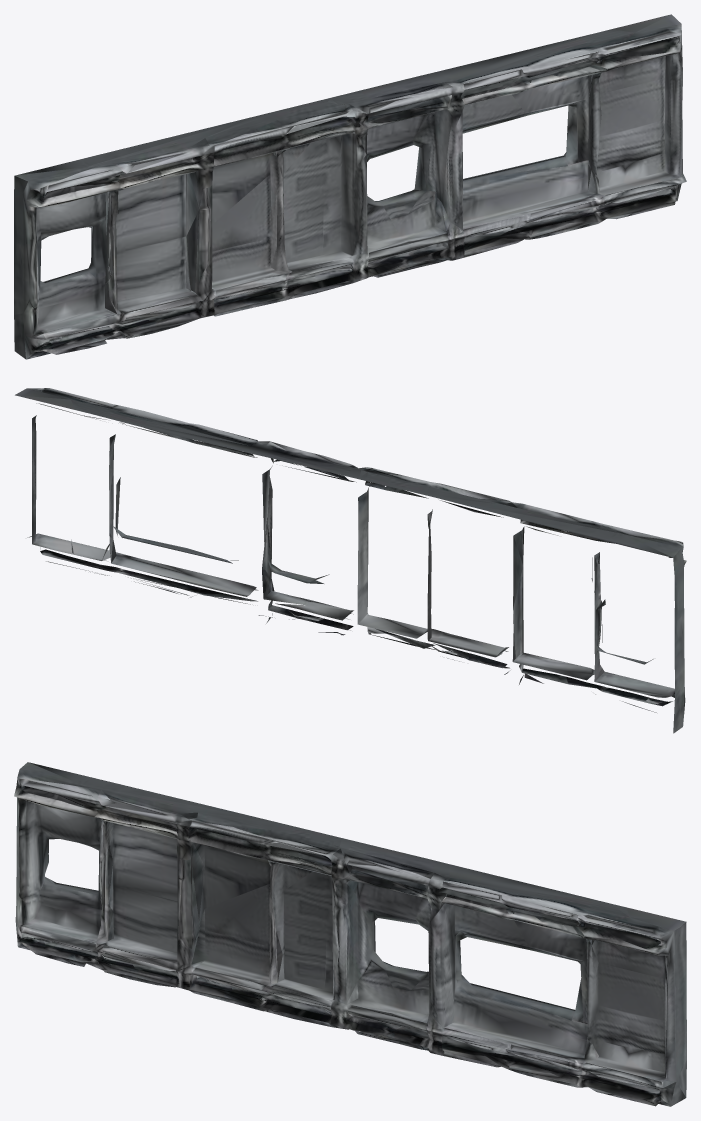
The model's file is hangar_window_strip.glb.
3 views of the same model, one above another, from view 1: azimuth 30°, elevation 25°; view 2: azimuth 150°, elevation 25°; view 3: azimuth 330°, elevation 25° (orthographic).
Visible parts, largest first — view 1: hangar_window_strip; view 2: hangar_window_strip; view 3: hangar_window_strip.
Boxes of the visible parts, x1,y1,x2,y2 form: hangar_window_strip: (14,14,686,359); hangar_window_strip: (15,388,686,733); hangar_window_strip: (14,762,686,1106).
Bounding box in the file's own units: 0.38 × 0.098 × 0.0209.
1 material, 1 textured.
